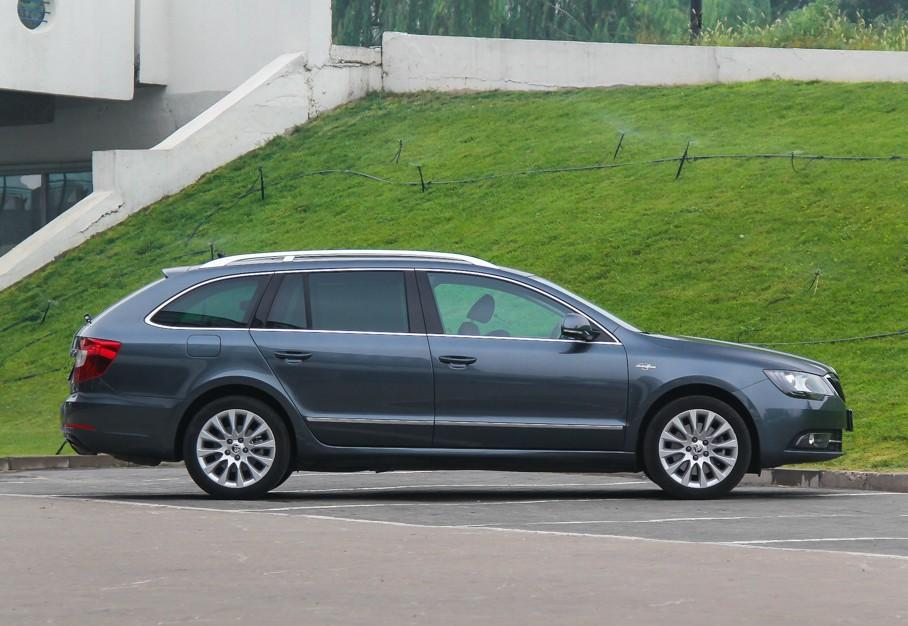Wagon: (62, 249, 852, 498)
